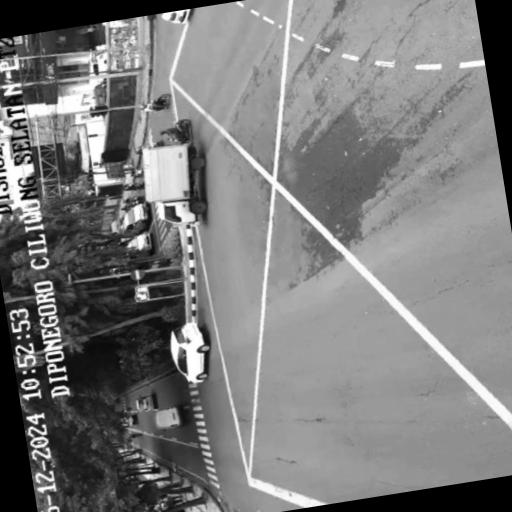car: (166, 316, 214, 382), (155, 402, 182, 426), (160, 8, 190, 26)
truck: (138, 140, 208, 226)
